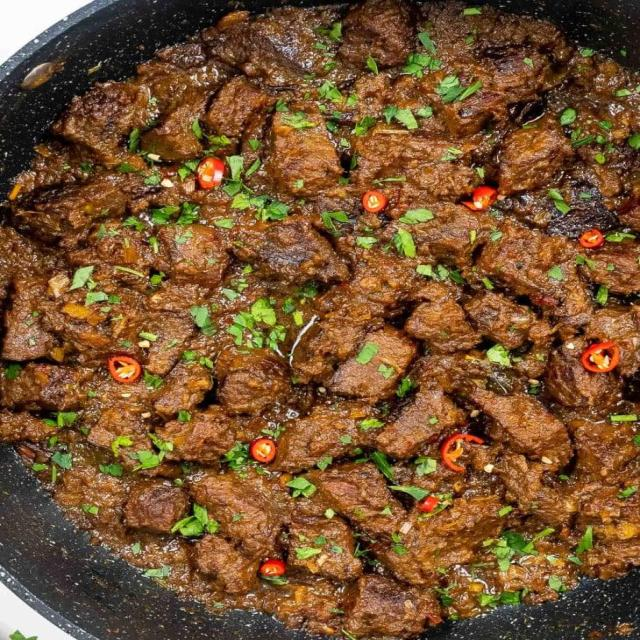Rendang: (0, 2, 640, 603)
